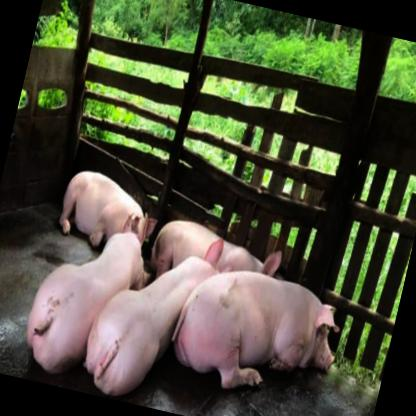Pig: (165, 260, 357, 412), (50, 151, 164, 251)
